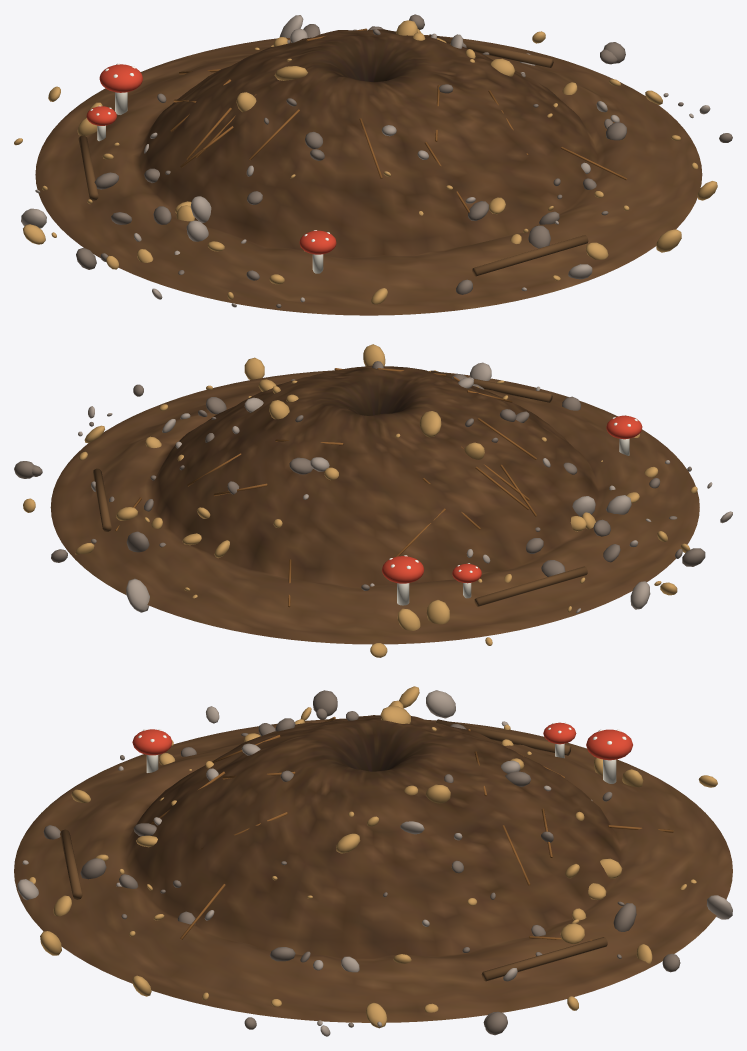
Rendered from nest.glb.
3 renders of one model, top to bottom at view 1: azimuth 30°, elevation 25°; view 2: azimuth 150°, elevation 25°; view 3: azimuth 270°, elevation 25°, orthographic. The views are drawn at different scales.
Visible parts, largest first — view 1: nest_dome, nest_deco; view 2: nest_dome, nest_deco; view 3: nest_dome, nest_deco.
Part boxes in pixels (bbox=[...]): nest_dome: bbox=[35, 29, 702, 315]; nest_deco: bbox=[14, 14, 732, 307]; nest_dome: bbox=[50, 365, 699, 644]; nest_deco: bbox=[14, 344, 732, 657]; nest_dome: bbox=[14, 715, 732, 1022]; nest_deco: bbox=[17, 686, 732, 1036].
Bounding box in the file's own units: 14.3 × 2.94 × 12.8.
